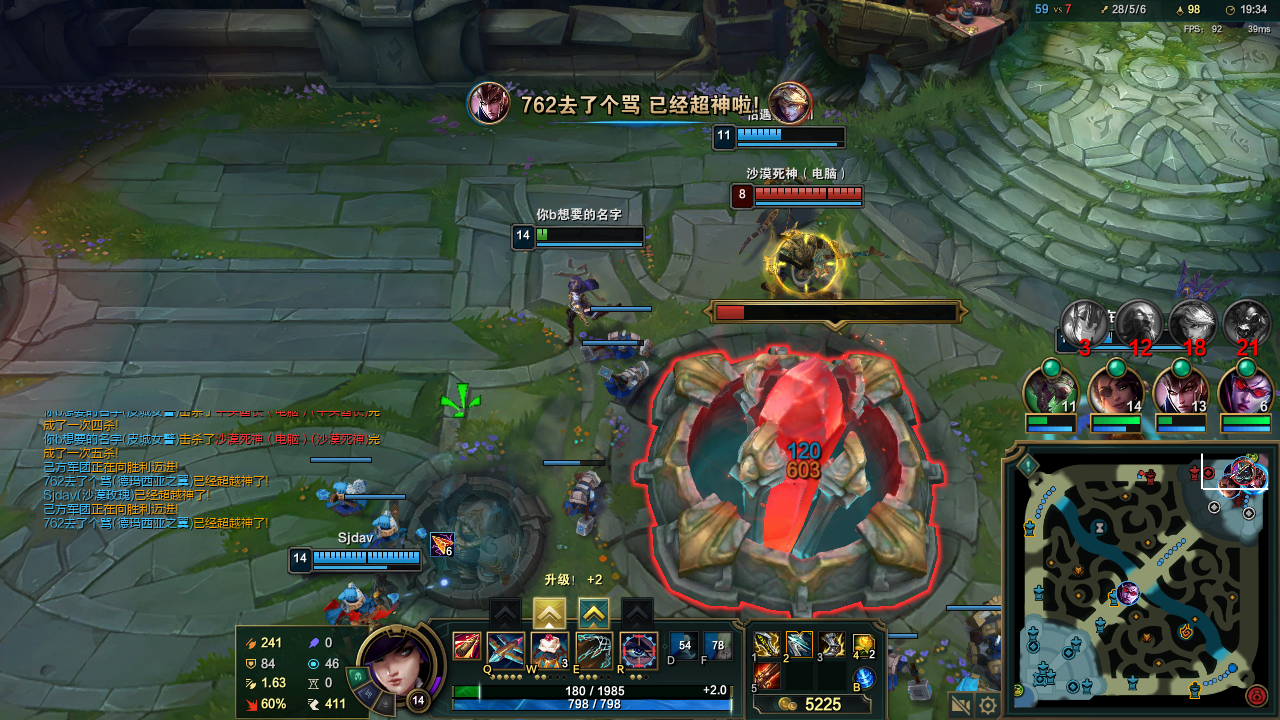DFDSJ: (671, 309, 925, 538)
DFYX: (748, 189, 862, 200)
Shenji: (580, 601, 604, 623)
Tuijianshengji: (532, 597, 562, 626)
WFXB: (559, 471, 612, 521), (313, 470, 370, 509), (359, 512, 411, 551), (604, 326, 660, 359), (604, 358, 644, 393)
